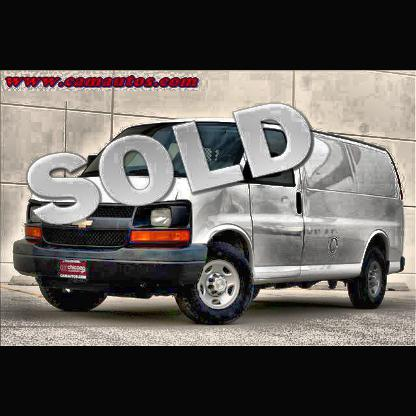Chevrolet Express Van 2007: (13, 117, 406, 328)
